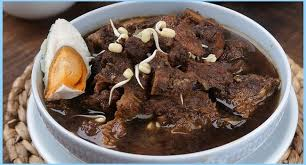Rawon: (44, 8, 283, 157)
